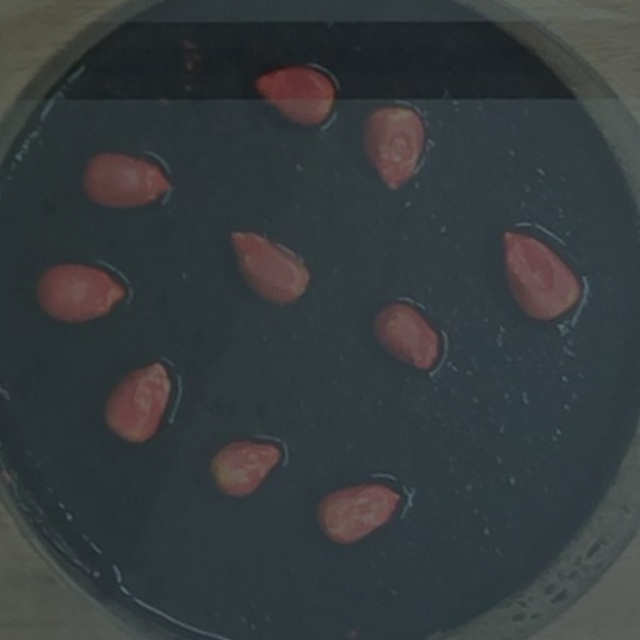Zea mays: (492, 221, 589, 329), (92, 350, 183, 453), (219, 222, 318, 313), (354, 96, 433, 201), (309, 473, 410, 555), (28, 256, 135, 332), (245, 54, 344, 135), (75, 144, 178, 217), (366, 296, 449, 379), (204, 435, 293, 507)
